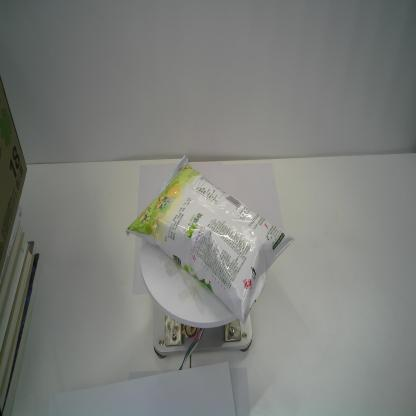Puffed Food: (126, 154, 294, 325)
